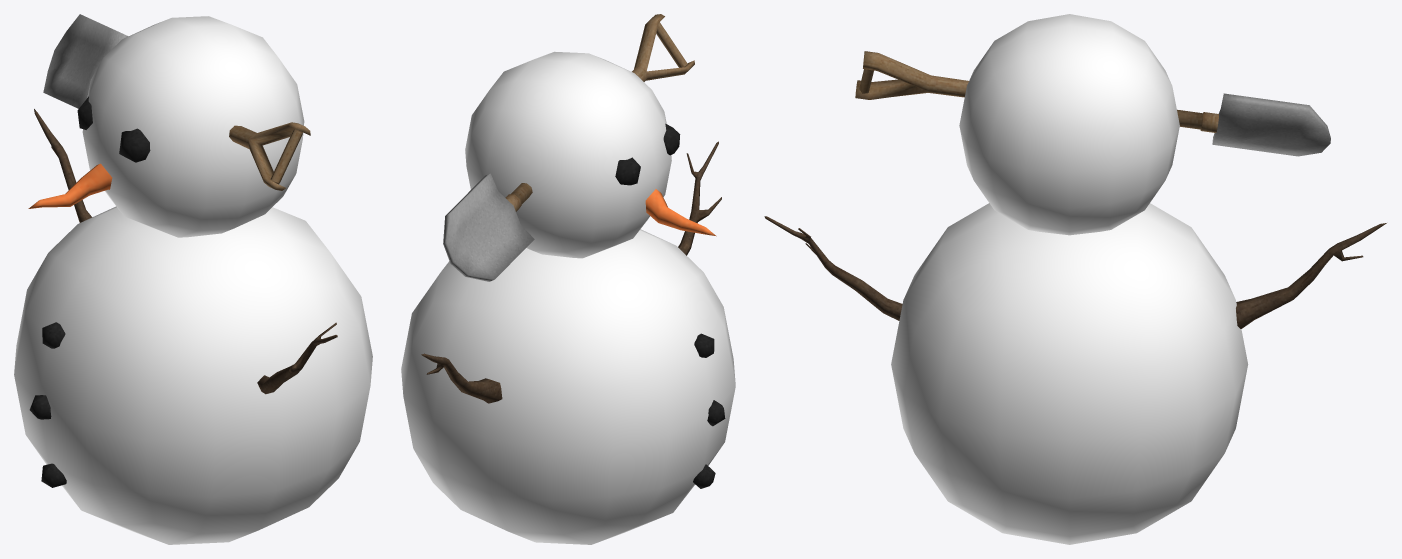
3 renders of one model, left to right at view 1: azimuth 30°, elevation 25°; view 2: azimuth 150°, elevation 25°; view 3: azimuth 270°, elevation 25°, orthographic. The views are drawn at different scales.
Visible parts, largest first — view 1: sm_04_body, sm_04_head, sm_04_shovel, sm_04_wood, sm_04_carrot, sm_04_button, sm_04_eyes; view 2: sm_04_body, sm_04_head, sm_04_shovel, sm_04_wood, sm_04_carrot, sm_04_button, sm_04_eyes; view 3: sm_04_body, sm_04_head, sm_04_shovel, sm_04_wood.
Boxes of the visible parts, x1,y1,x2,y2 form: sm_04_body: (14, 206, 372, 544); sm_04_head: (82, 16, 304, 237); sm_04_shovel: (43, 14, 310, 190); sm_04_wood: (34, 109, 337, 394); sm_04_carrot: (28, 163, 112, 208); sm_04_button: (29, 322, 66, 487); sm_04_eyes: (77, 96, 150, 162); sm_04_body: (401, 229, 735, 544); sm_04_head: (465, 51, 671, 258); sm_04_shovel: (443, 14, 694, 281); sm_04_wood: (421, 141, 721, 403); sm_04_carrot: (645, 189, 716, 236); sm_04_button: (693, 333, 725, 488); sm_04_eyes: (615, 123, 680, 185); sm_04_body: (891, 203, 1248, 544); sm_04_head: (959, 14, 1179, 235); sm_04_shovel: (855, 51, 1330, 156); sm_04_wood: (764, 216, 1386, 328).
Bounding box in the file's own units: 229 × 389 × 345.
